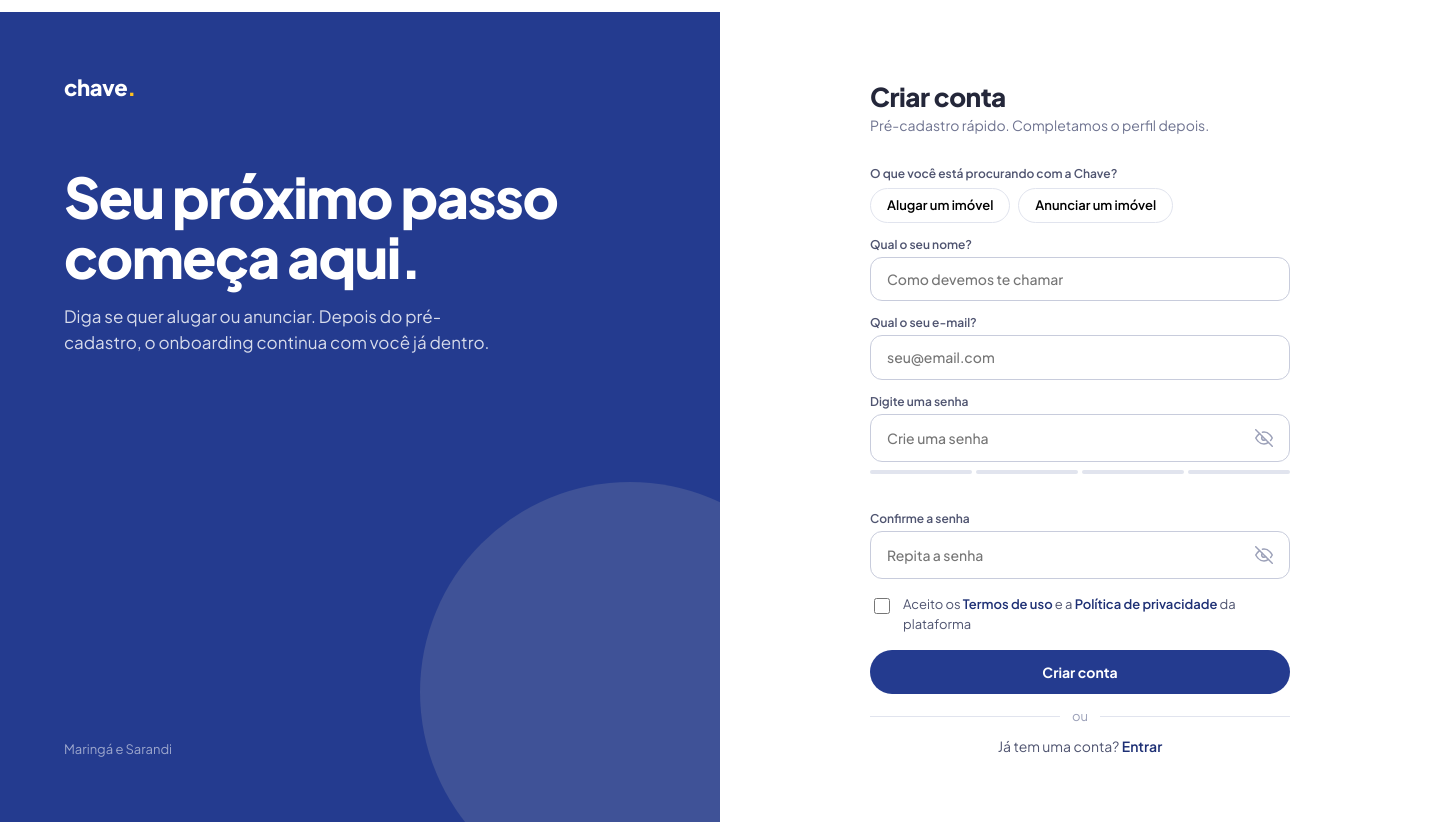
Test: RegisterPage › blocks submit without goal or terms
The width and height of the screenshot is (1440, 822).
Step 1. Click the button "Criar conta" → (1080, 672), box [870,650,1290,694]
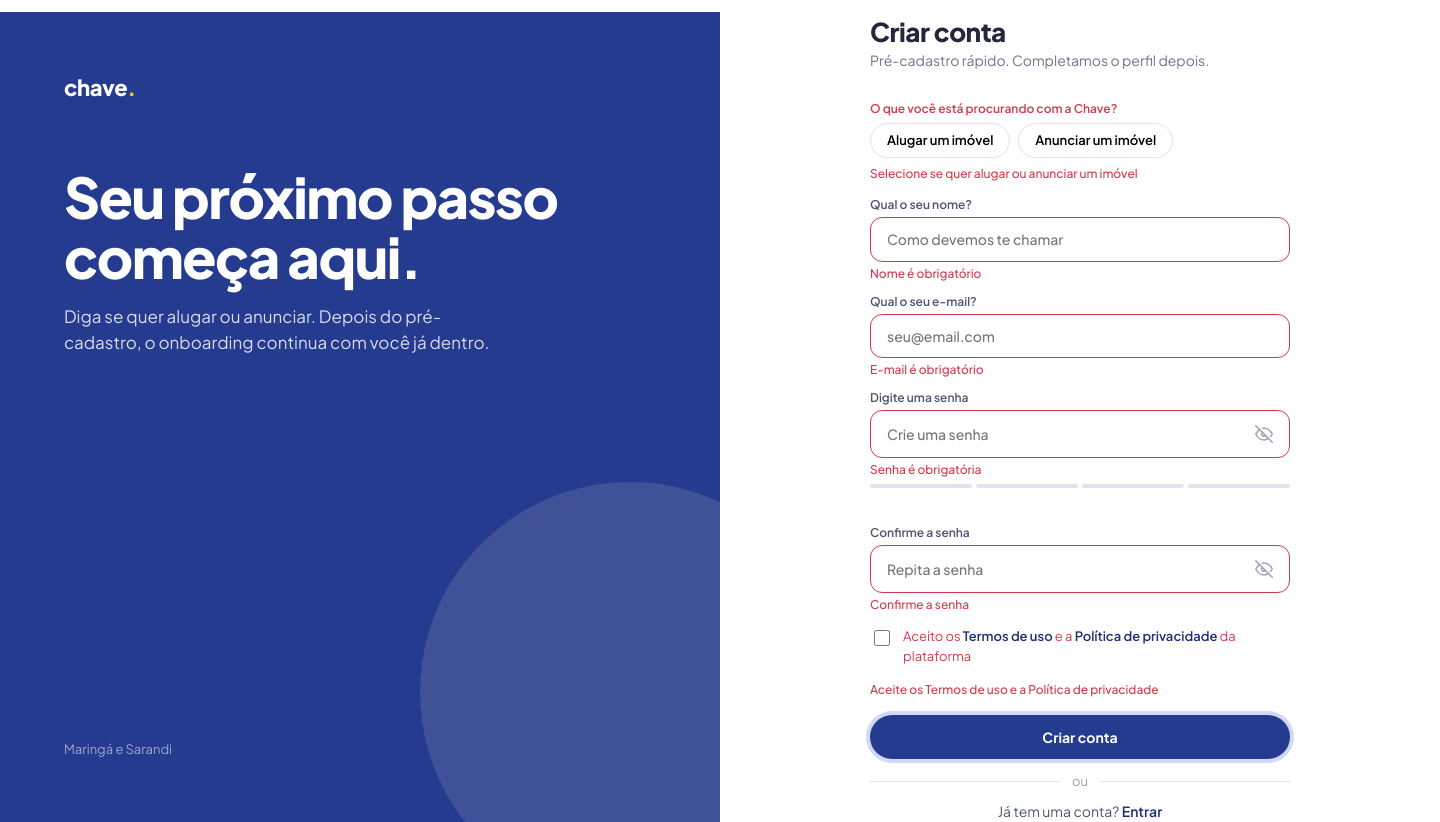
Result: the text "Selecione se quer alugar ou anunciar um imóvel" is shown at [870,166,1138,181]
Result: the text "Aceite os Termos de uso e a Política de privacidade" is shown at [870,682,1159,697]
